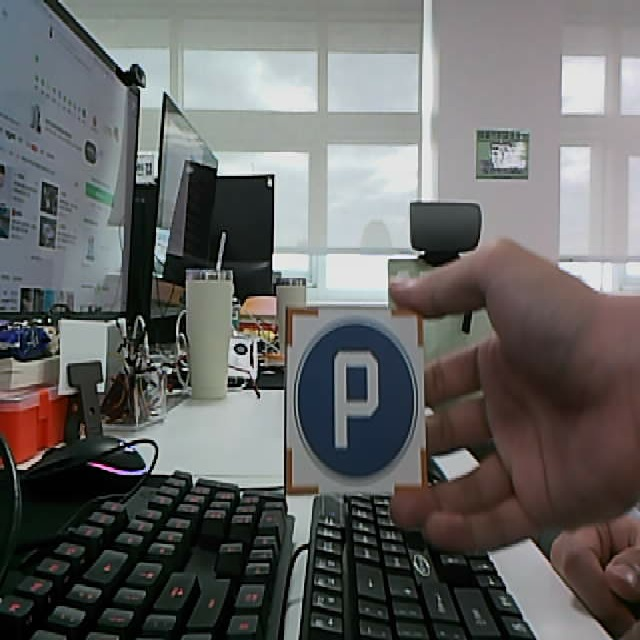parking: (286, 307, 429, 496)
